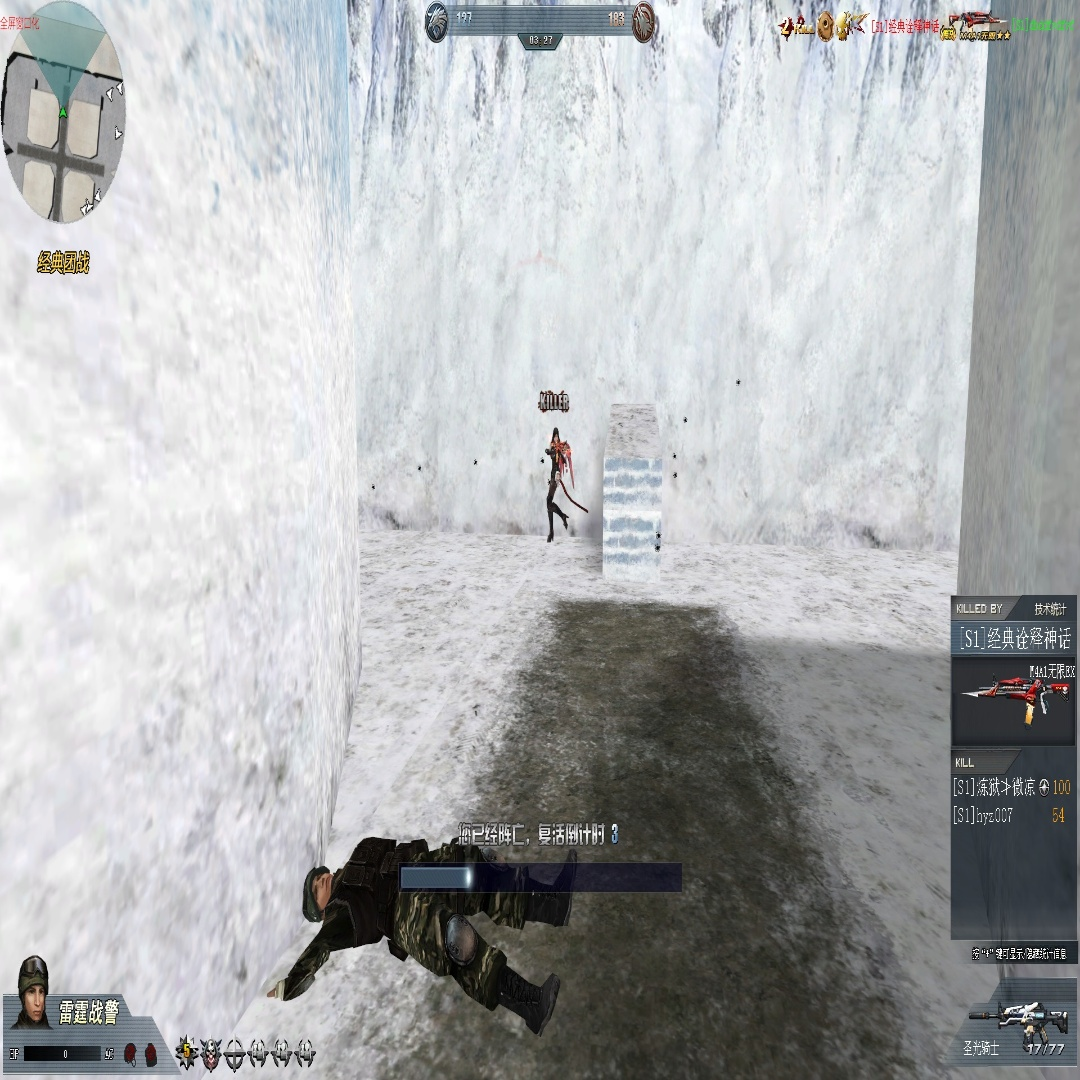t: (547, 428, 562, 544), (654, 520, 662, 555)
